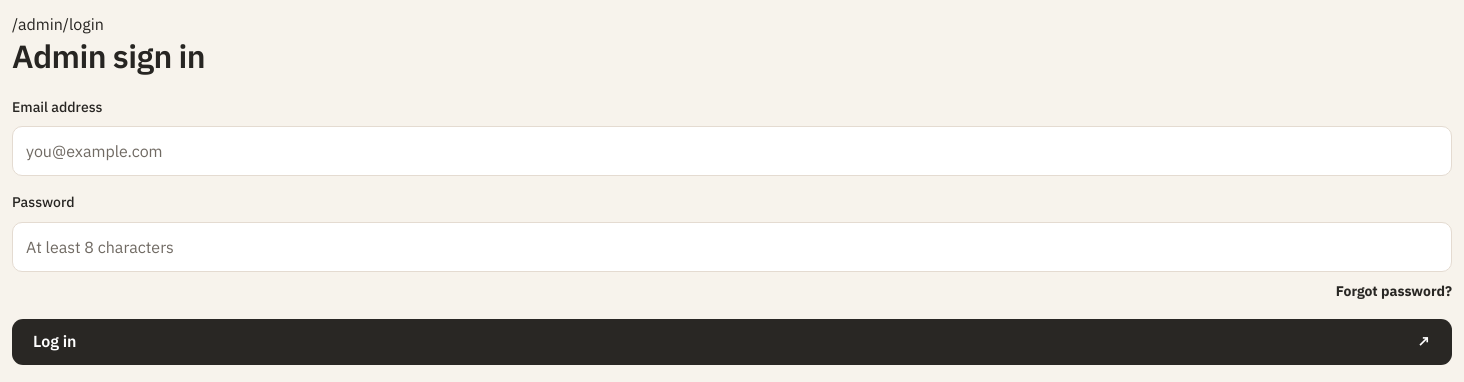
Scenario: admin-only login has no signup or public role controls
The width and height of the screenshot is (1464, 382).
Expected: the heading "Admin sign in" is shown, [12, 35, 205, 77]
Type "case-admin@example.test" into the field labelled "Email address" at (732, 151), box [12, 126, 1452, 176]
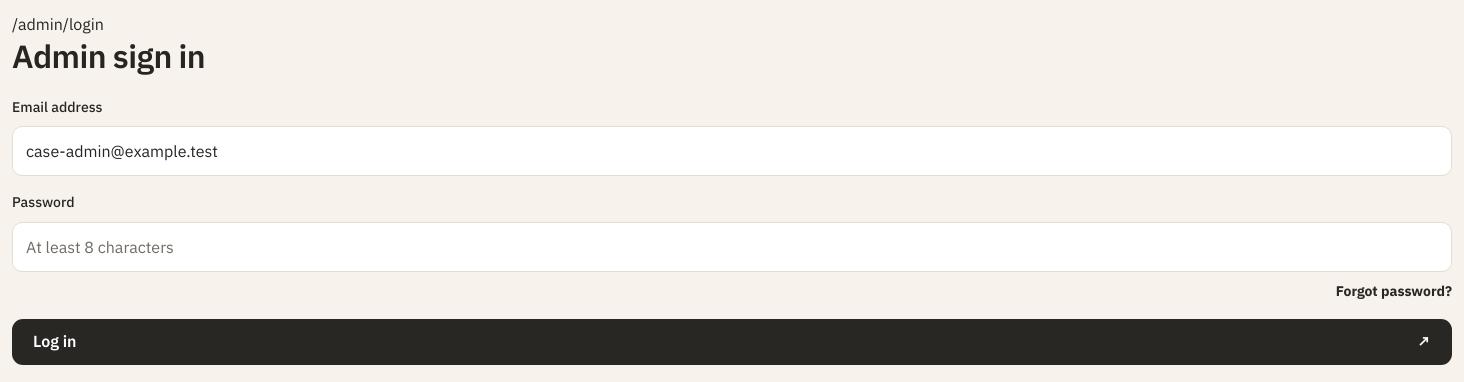
Type "test-only-admin-password" into the password field labelled "Password" at (732, 247), box [12, 222, 1452, 272]
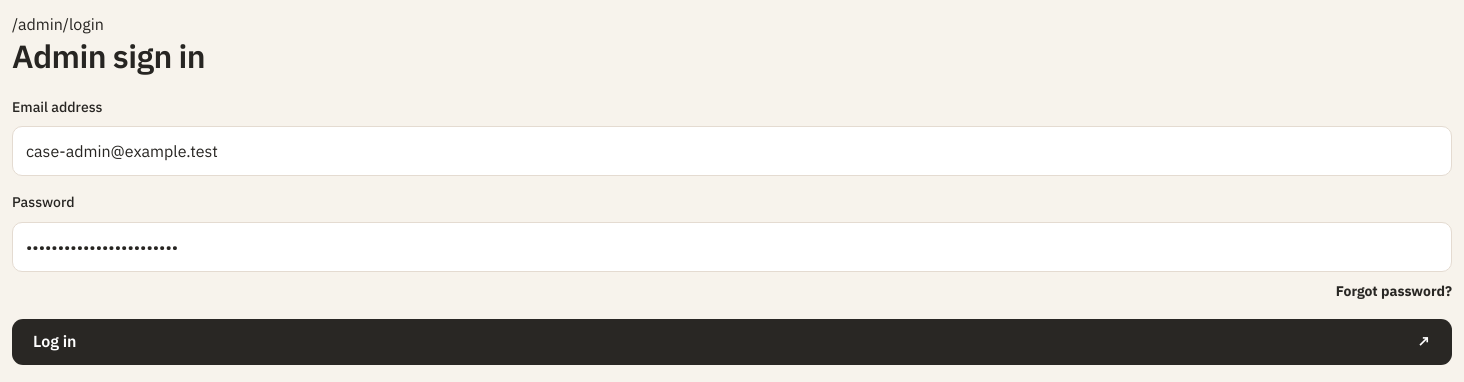
Click the button "Log in ↗" at (55, 341), box [12, 319, 1452, 365]
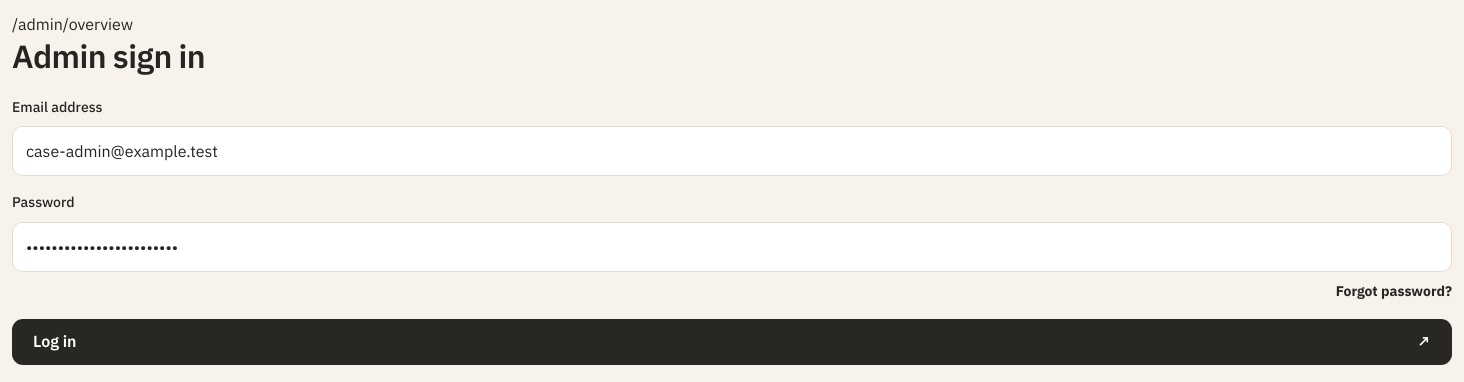
Expected: the text with test id "path" reads "/admin/overview", [12, 14, 133, 34]
